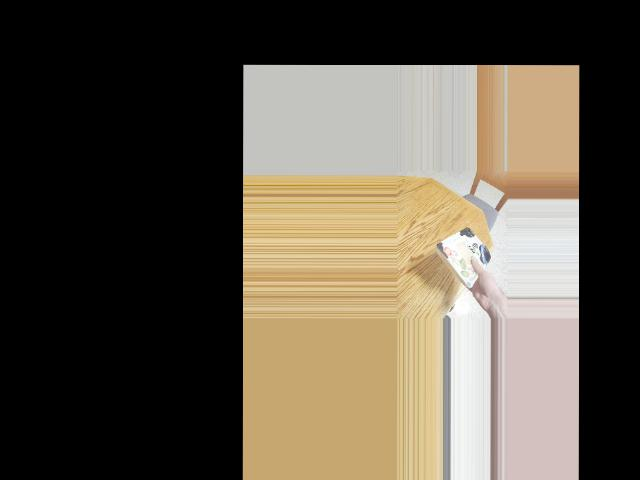cheese: (440, 227, 485, 280)
